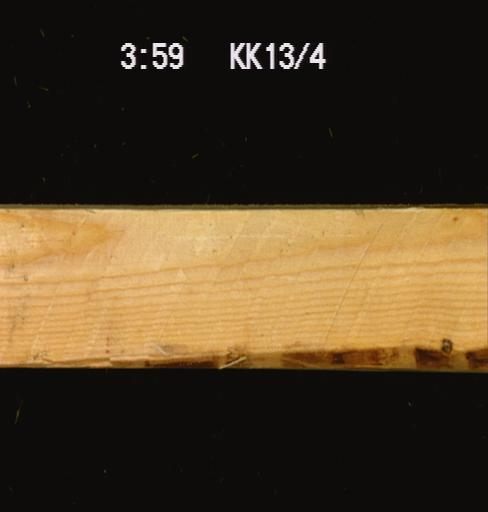wave: (0, 354, 487, 371)
